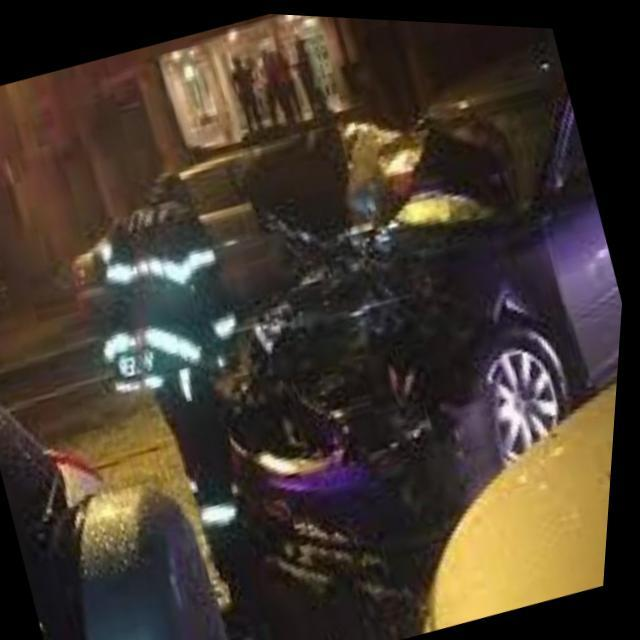no part: (222, 111, 553, 541)
